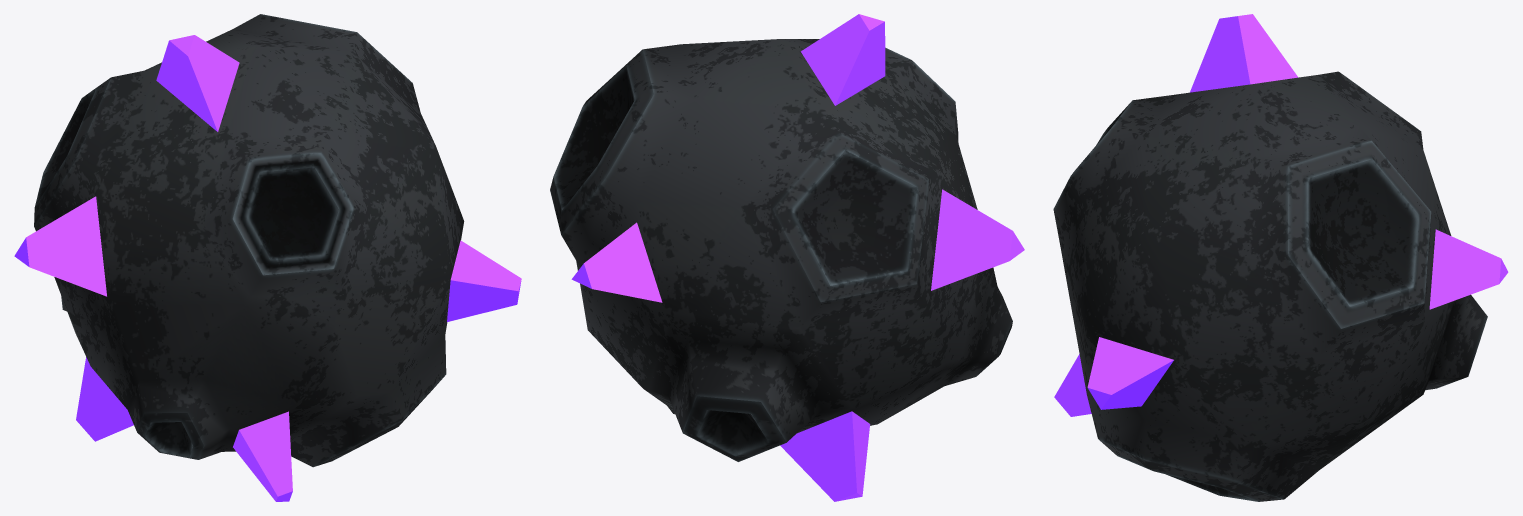
The model's file is Crystal.glb.
The picture shows the model from 3 angles, left to right: view 1: azimuth 30°, elevation 25°; view 2: azimuth 150°, elevation 25°; view 3: azimuth 270°, elevation 25°; orthographic projection. The views are drawn at different scales.
Parts seen in each view (by area): view 1: Crystal; view 2: Crystal; view 3: Crystal.
Boxes of the visible parts, x1,y1,x2,y2 form: Crystal: (14,14,521,501); Crystal: (550,14,1024,501); Crystal: (1053,14,1508,501).
Bounding box in the file's own units: 3.65 × 3.59 × 3.45.
2 materials, 2 textured.
